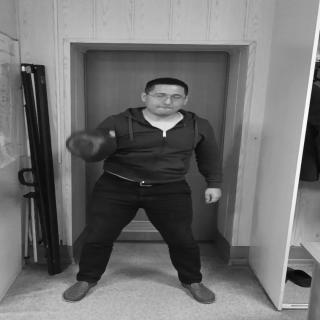kettlebell: (67, 129, 118, 157)
